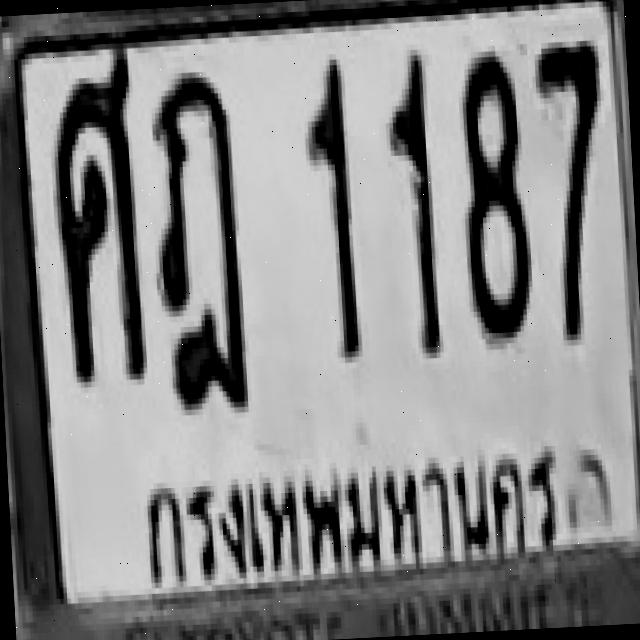1: (299, 56, 361, 362), (382, 52, 444, 357)
23DorChaDa: (146, 68, 248, 408)
47SorSala: (48, 54, 146, 383)
7: (534, 38, 613, 344), (534, 37, 611, 306), (536, 38, 606, 238)
8: (455, 50, 534, 345)
Bangkok: (129, 436, 567, 593)
